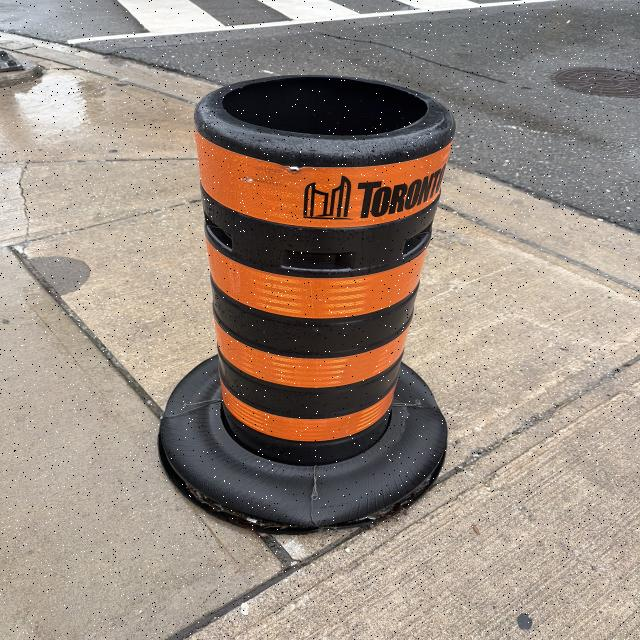Teraffic Barrel: (160, 76, 454, 531)
